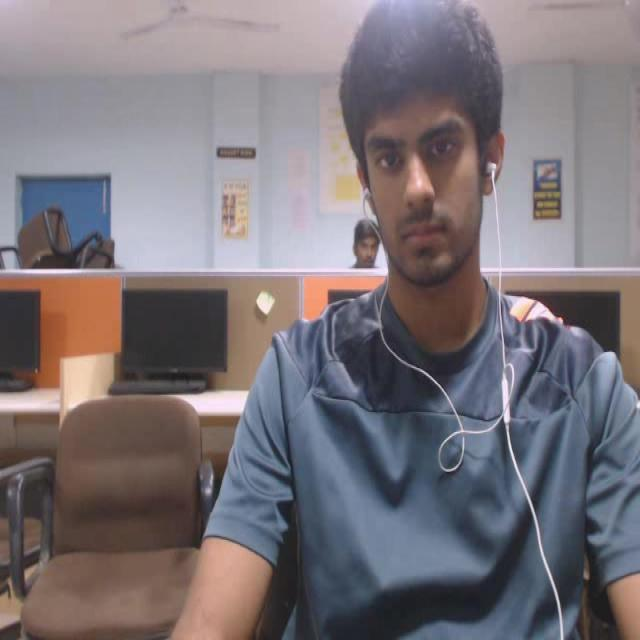Engaged: (319, 0, 518, 315)
